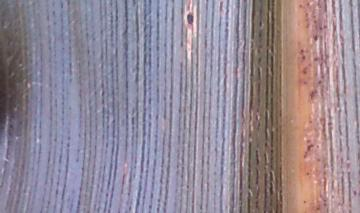tarspot: (185, 9, 194, 27), (305, 143, 315, 153), (257, 16, 264, 29), (302, 10, 310, 18), (312, 33, 319, 42), (307, 118, 314, 126), (316, 79, 323, 87), (302, 152, 308, 161), (304, 171, 311, 178), (312, 56, 319, 63), (300, 54, 307, 61), (352, 189, 357, 198), (302, 199, 309, 205), (297, 3, 303, 10), (322, 23, 328, 30), (317, 25, 323, 32), (185, 183, 190, 191), (305, 1, 311, 7), (299, 48, 304, 54)
